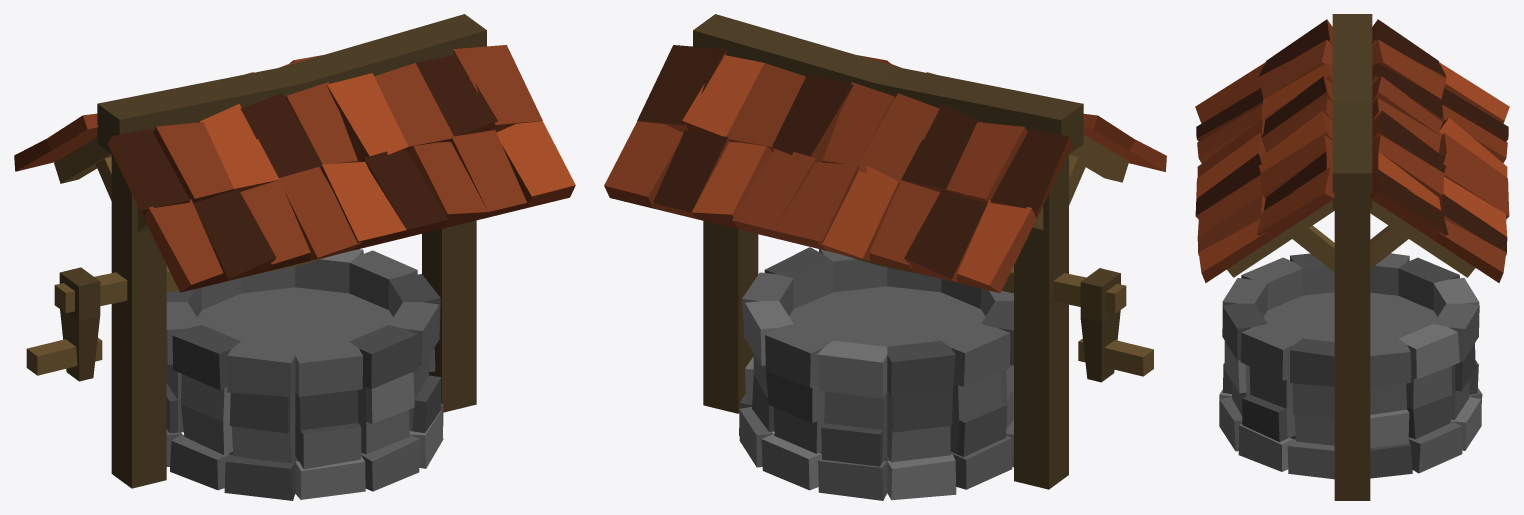
The model's file is well.fbx.
3 views of the same model, side by side, from view 1: azimuth 30°, elevation 25°; view 2: azimuth 150°, elevation 25°; view 3: azimuth 270°, elevation 25° (orthographic). The views are drawn at different scales.
Visible parts, largest first — view 1: well_LOD0; view 2: well_LOD0; view 3: well_LOD0.
Boxes of the visible parts, bbox=[...] form: well_LOD0: bbox=[14, 14, 575, 500]; well_LOD0: bbox=[604, 14, 1166, 500]; well_LOD0: bbox=[1195, 14, 1509, 500].
Size of what is drawn, in the model's own units: 6.24 by 4.85 by 4.17.
